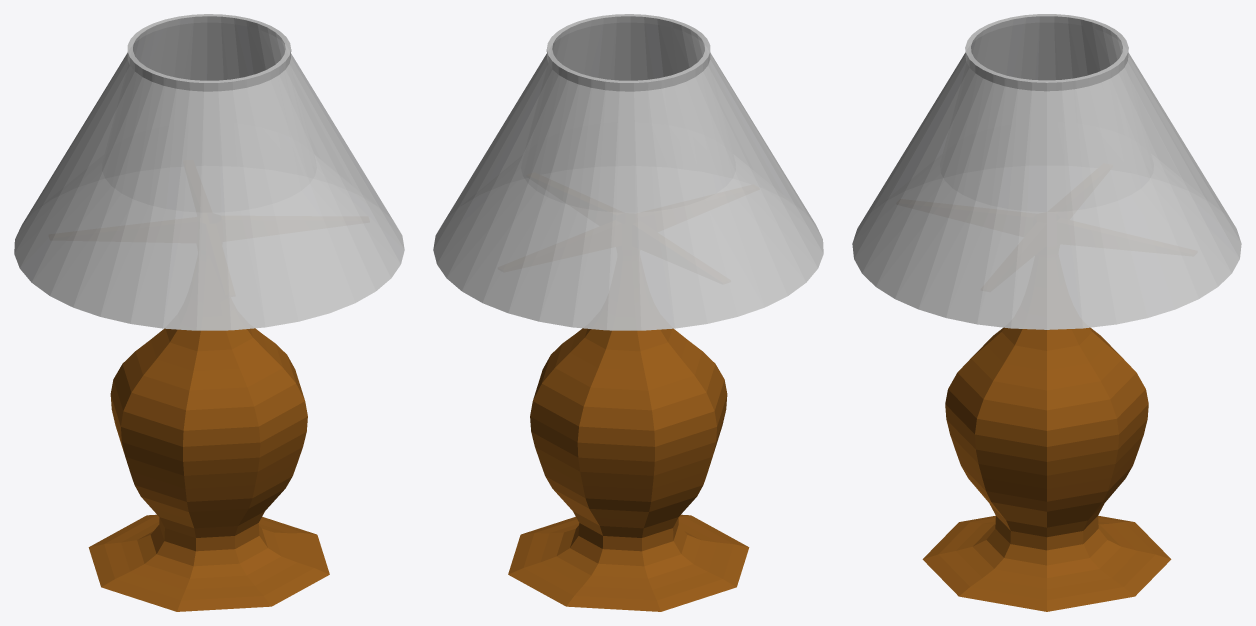
The model's file is LAMP v2.fbx.
3 views of the same model, side by side, from view 1: azimuth 30°, elevation 25°; view 2: azimuth 150°, elevation 25°; view 3: azimuth 270°, elevation 25° (orthographic).
Parts seen in each view (by area): view 1: Lampe_v2; view 2: Lampe_v2; view 3: Lampe_v2.
Boxes of the visible parts, left/top/right/bottom form: Lampe_v2: left=14, top=14, right=404, bottom=611; Lampe_v2: left=433, top=14, right=823, bottom=611; Lampe_v2: left=852, top=14, right=1241, bottom=611.
Size of the model in its own units: 51.59 by 74.81 by 51.64.
